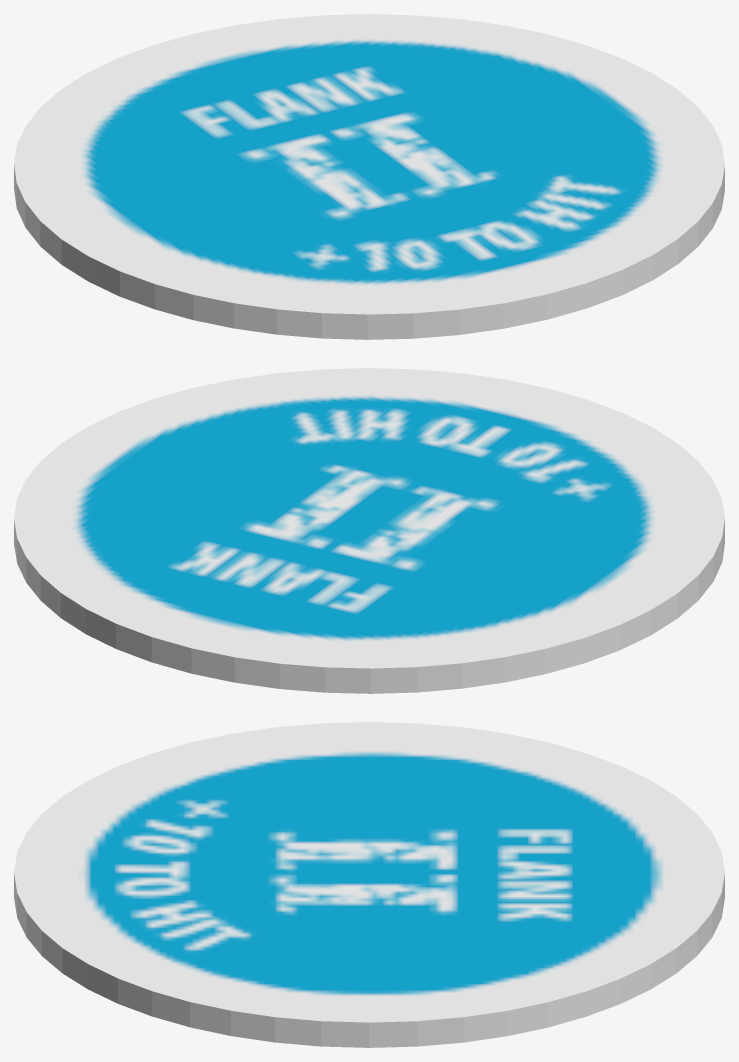
The picture shows the model from 3 angles, top to bottom: view 1: azimuth 30°, elevation 25°; view 2: azimuth 150°, elevation 25°; view 3: azimuth 270°, elevation 25°; orthographic projection.
Parts seen in each view (by area): view 1: Curve.005_Curve.784; view 2: Curve.005_Curve.784; view 3: Curve.005_Curve.784.
Boxes of the visible parts, x1,y1,x2,y2 form: Curve.005_Curve.784: (14, 14, 724, 339); Curve.005_Curve.784: (14, 368, 724, 693); Curve.005_Curve.784: (14, 722, 724, 1047).
Bounding box in the file's own units: 1 × 0.0394 × 1.
